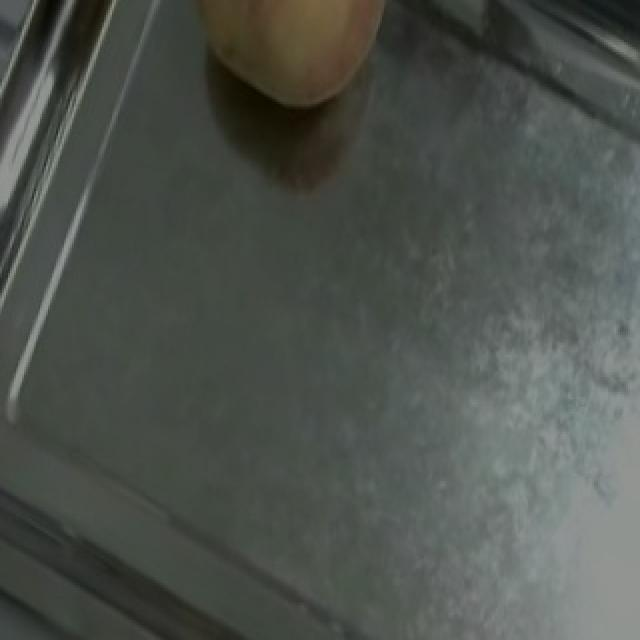Fruit: (154, 0, 420, 144)
